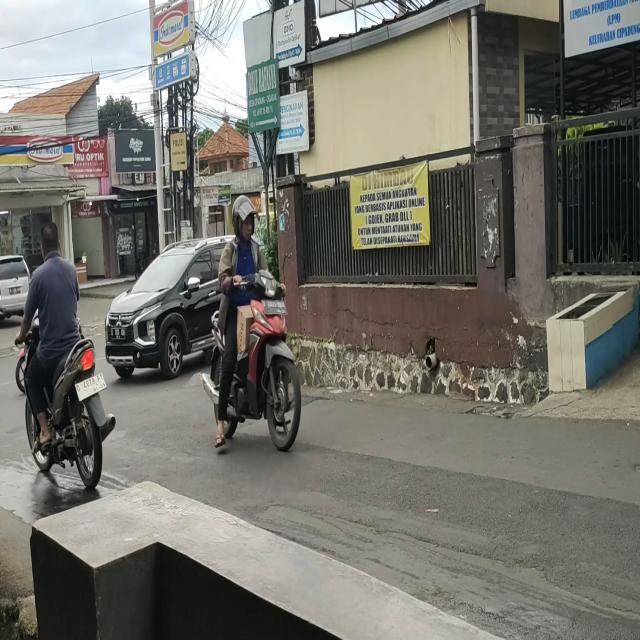helmet: (231, 195, 256, 245)
no-helmet: (41, 225, 63, 261)
